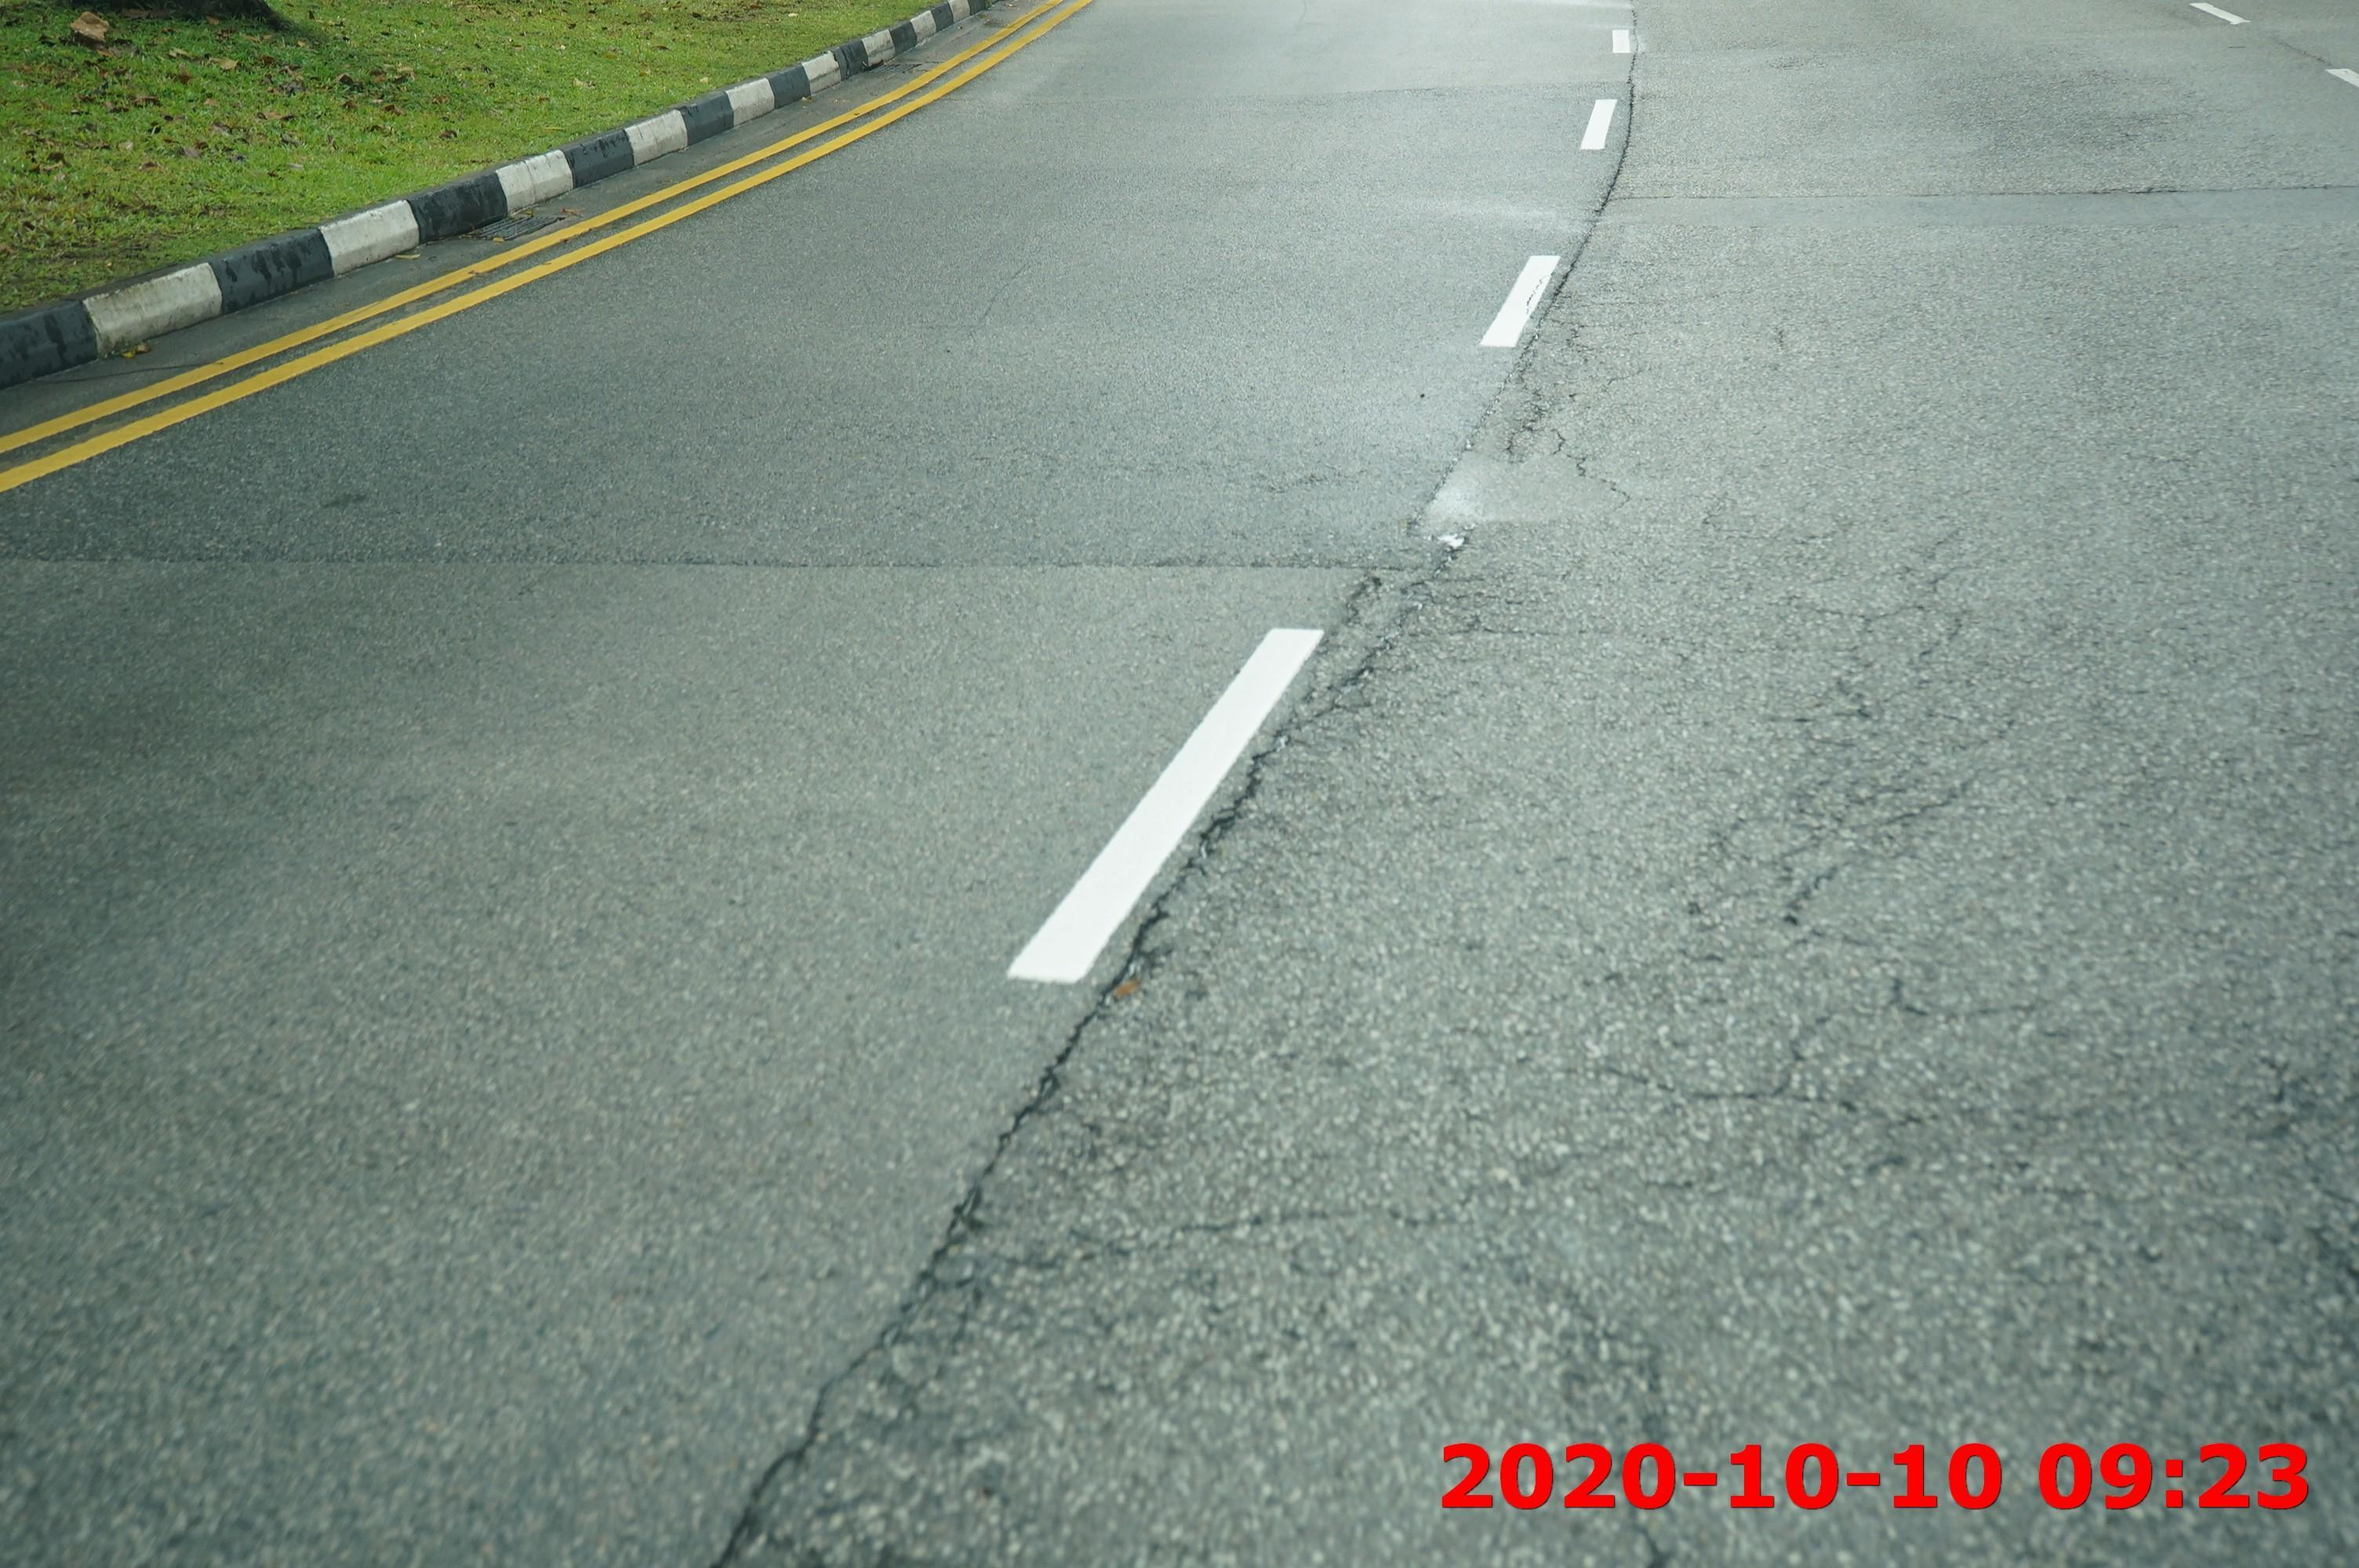alligator crack: (1598, 562, 2018, 1211)
